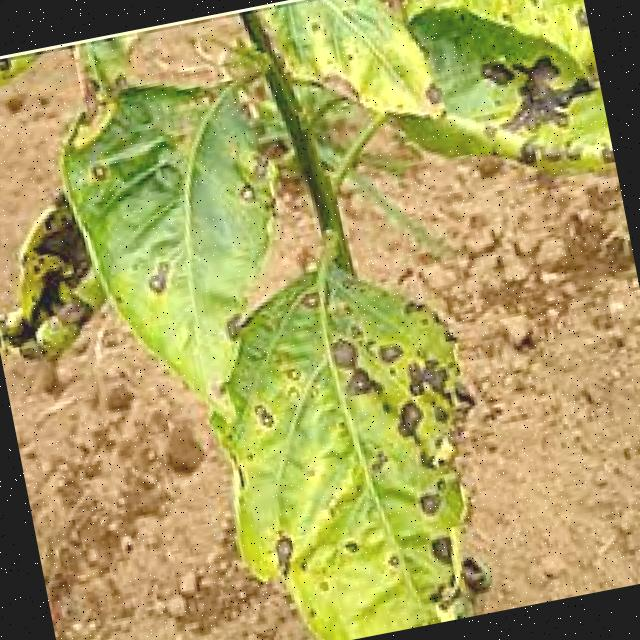leaf spot: (195, 233, 509, 640), (246, 0, 459, 161)
